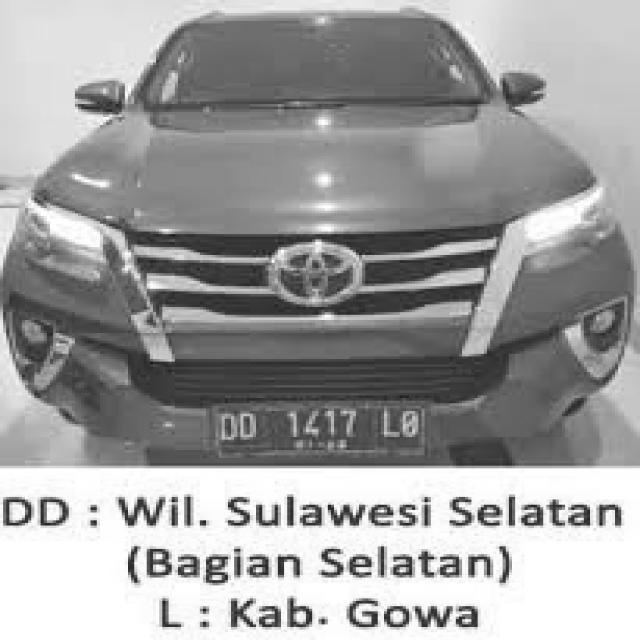clone-license-plate: (219, 406, 427, 454)
